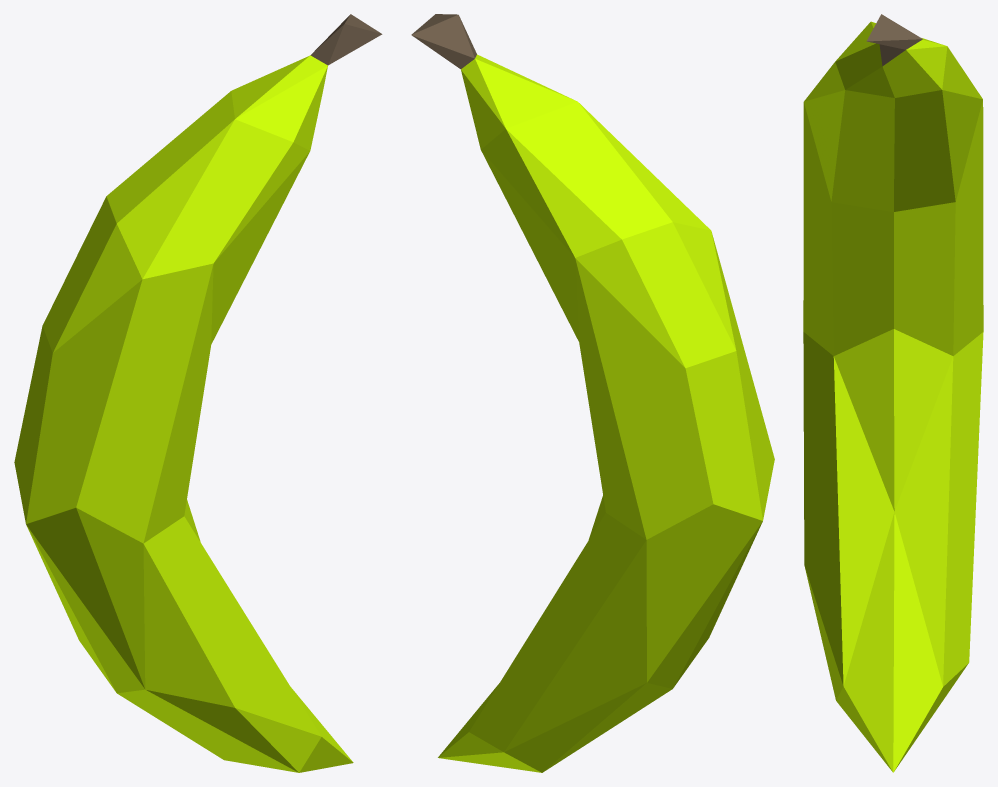
File: banana.glb
The picture shows the model from 3 angles, left to right: view 1: azimuth 30°, elevation 25°; view 2: azimuth 150°, elevation 25°; view 3: azimuth 270°, elevation 25°; orthographic projection.
Visible parts, largest first — view 1: Banana; view 2: Banana; view 3: Banana.
Boxes of the visible parts, box(x1,y1,x2,y2) form: Banana: box(14, 14, 382, 772); Banana: box(411, 14, 774, 772); Banana: box(803, 14, 983, 772).
Bounding box in the file's own units: 0.0775 × 0.1614 × 0.0351.
Materials: 1 (1 with a texture image).
